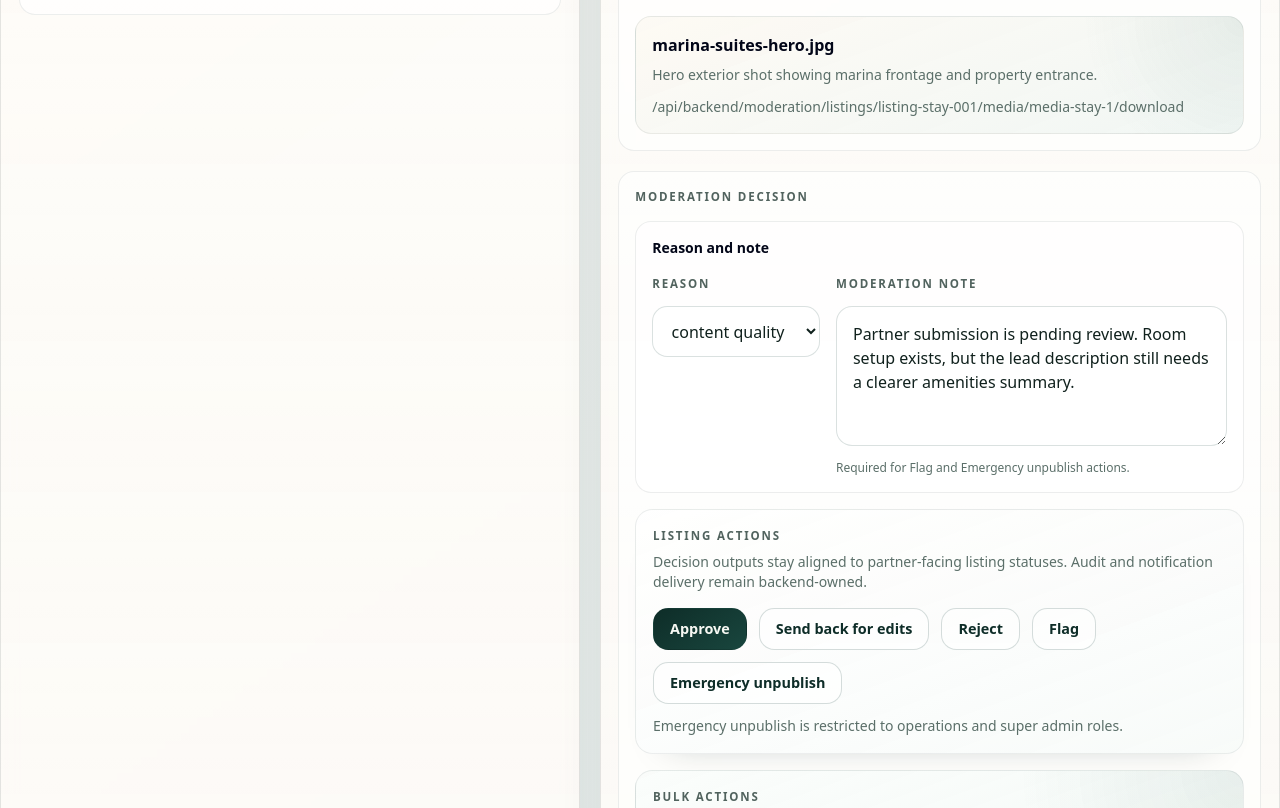
Test: ListingModerationWorkspace › requires a moderation note for flag actions
(page scrolled)
Clear the text box with placeholder "Capture moderation reason" at (1032, 376), box top-left (836, 306), bottom-right (1228, 446)
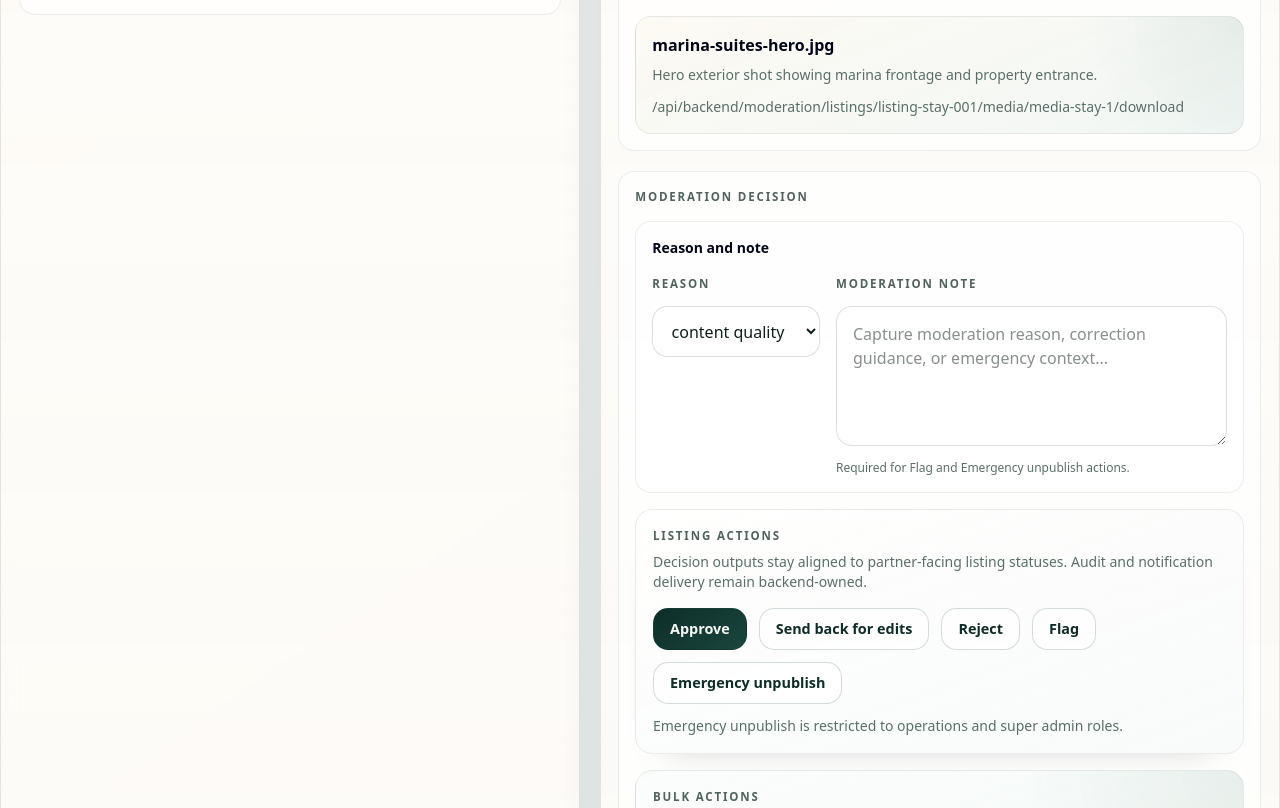
Click the button "Flag" at (1064, 630), box top-left (1032, 608), bottom-right (1096, 650)
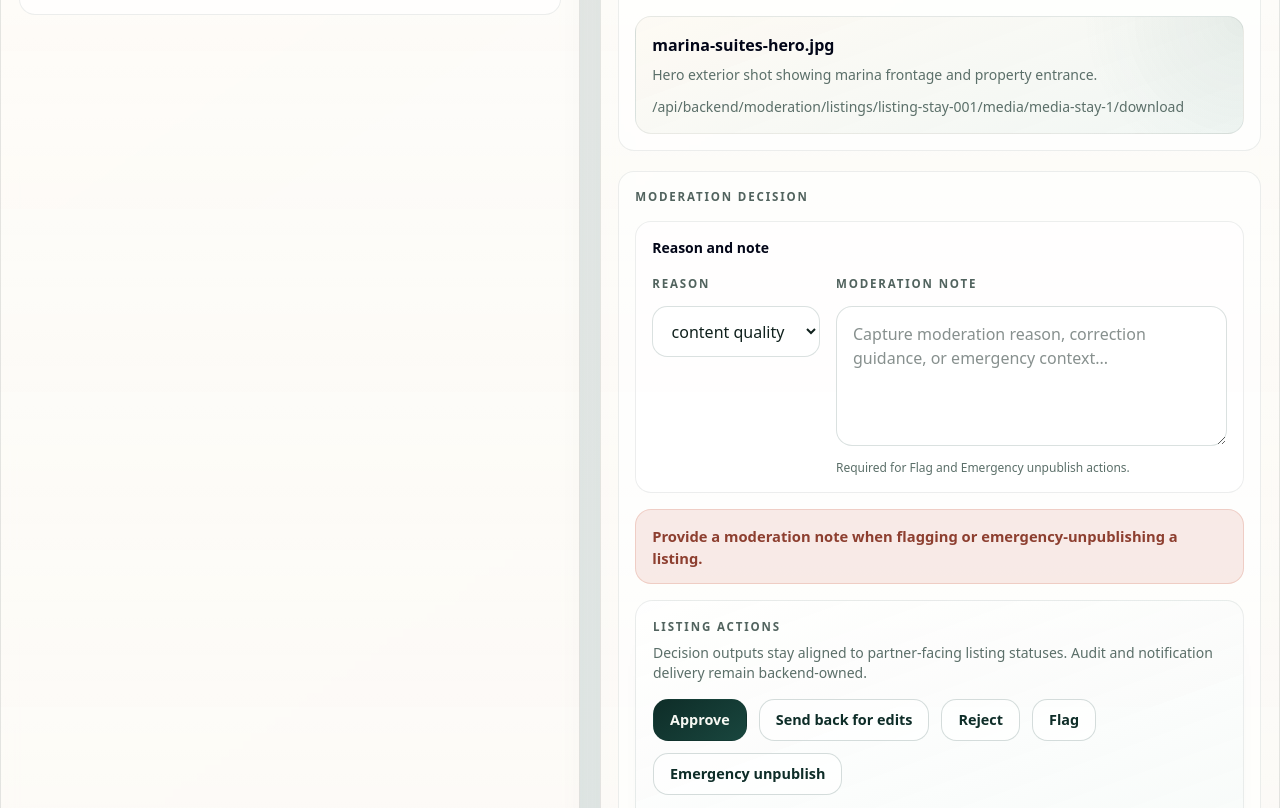
Check: the text "Provide a moderation note when flagging or emergency-unpublishing a listing." is shown, box top-left (635, 509), bottom-right (1244, 584)
